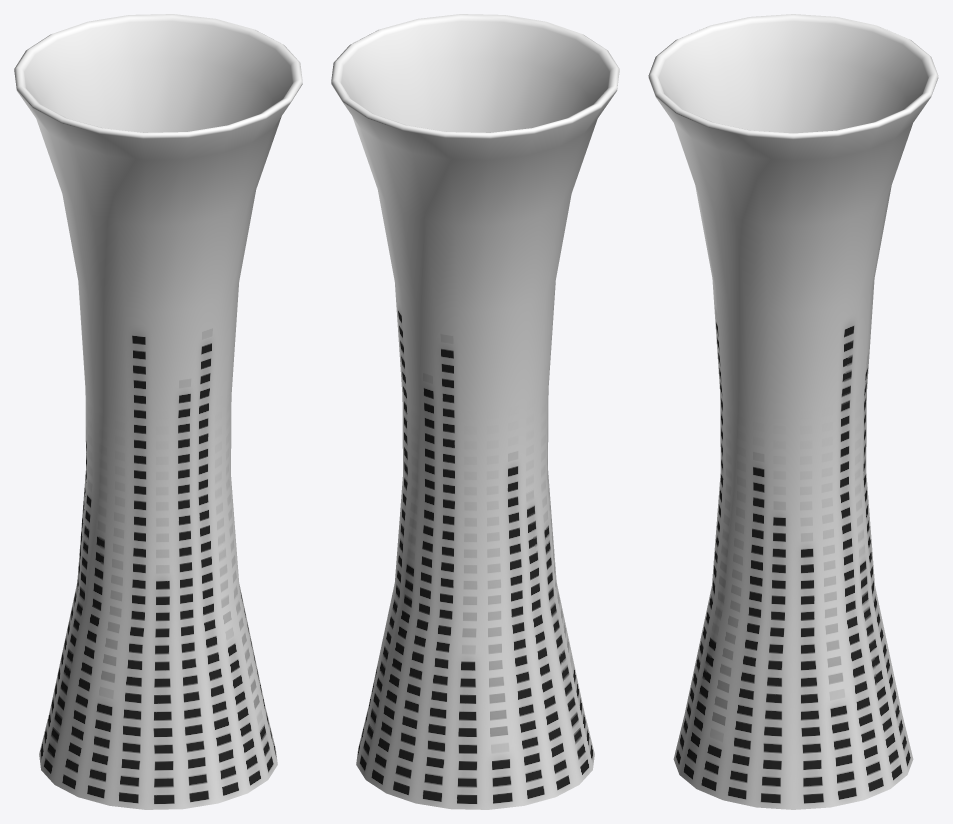
File: Vase02_3.FBX
3 views of the same model, side by side, from view 1: azimuth 30°, elevation 25°; view 2: azimuth 150°, elevation 25°; view 3: azimuth 270°, elevation 25° (orthographic).
Parts seen in each view (by area): view 1: Vase02_3; view 2: Vase02_3; view 3: Vase02_3.
Part boxes in pixels (x1,y1,x2,y2): Vase02_3: (14,14,302,809); Vase02_3: (331,14,619,809); Vase02_3: (648,14,938,809).
Bounding box in the file's own units: 17.25 × 44.98 × 17.25.
